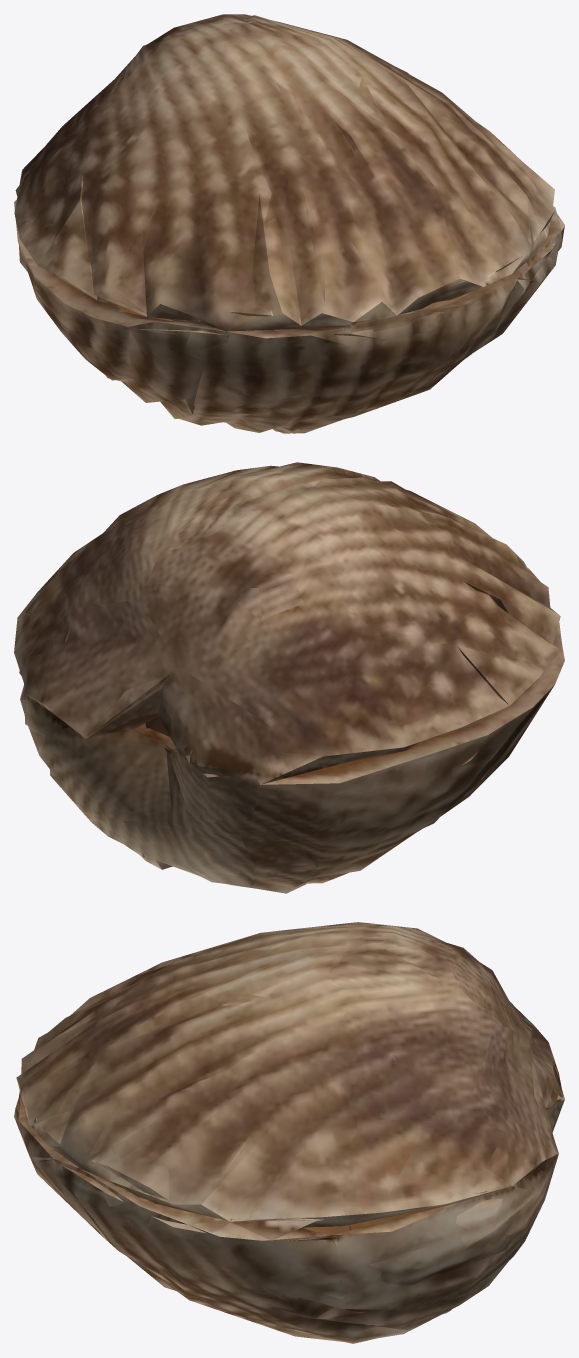
3 renders of one model, top to bottom at view 1: azimuth 30°, elevation 25°; view 2: azimuth 150°, elevation 25°; view 3: azimuth 270°, elevation 25°, orthographic.
Parts seen in each view (by area): view 1: cockle-shell; view 2: cockle-shell; view 3: cockle-shell.
Boxes of the visible parts, <box> form: cockle-shell: <box>14,14,564,433</box>; cockle-shell: <box>14,462,564,893</box>; cockle-shell: <box>14,922,564,1343</box>.
Size of the model in its own units: 0.1595 by 0.12 by 0.1606.
Materials: 1 (1 with a texture image).
